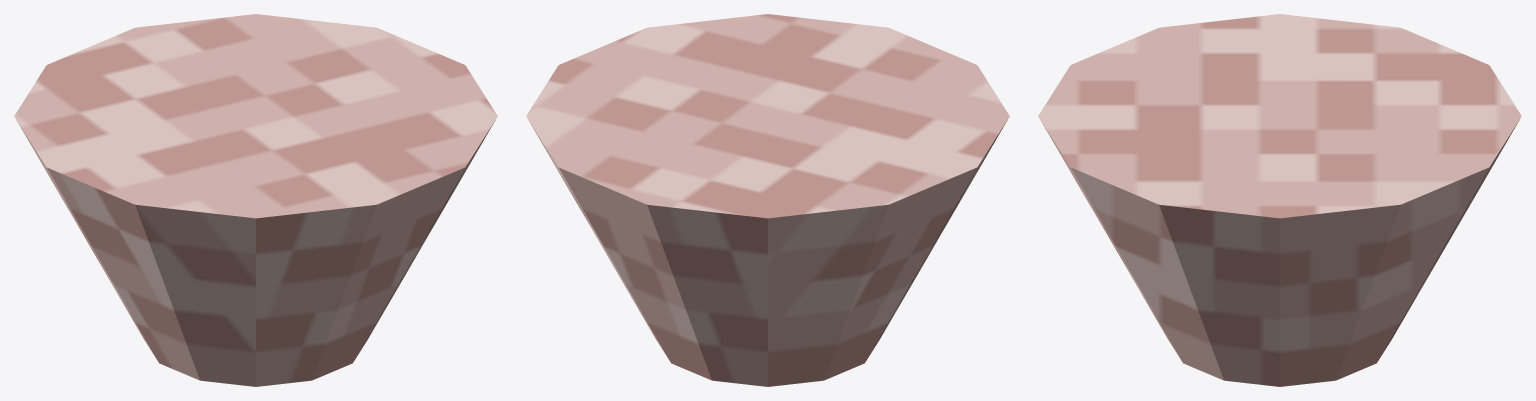
File: FlorNenufar.fbx
The picture shows the model from 3 angles, left to right: view 1: azimuth 30°, elevation 25°; view 2: azimuth 150°, elevation 25°; view 3: azimuth 270°, elevation 25°; orthographic projection.
Parts seen in each view (by area): view 1: Flornenufar; view 2: Flornenufar; view 3: Flornenufar.
Part boxes in pixels (left/top/right/bottom): Flornenufar: left=14, top=14, right=497, bottom=386; Flornenufar: left=526, top=14, right=1009, bottom=386; Flornenufar: left=1038, top=14, right=1521, bottom=386.
Size of the model in its own units: 0.5755 by 0.2934 by 0.5755.
